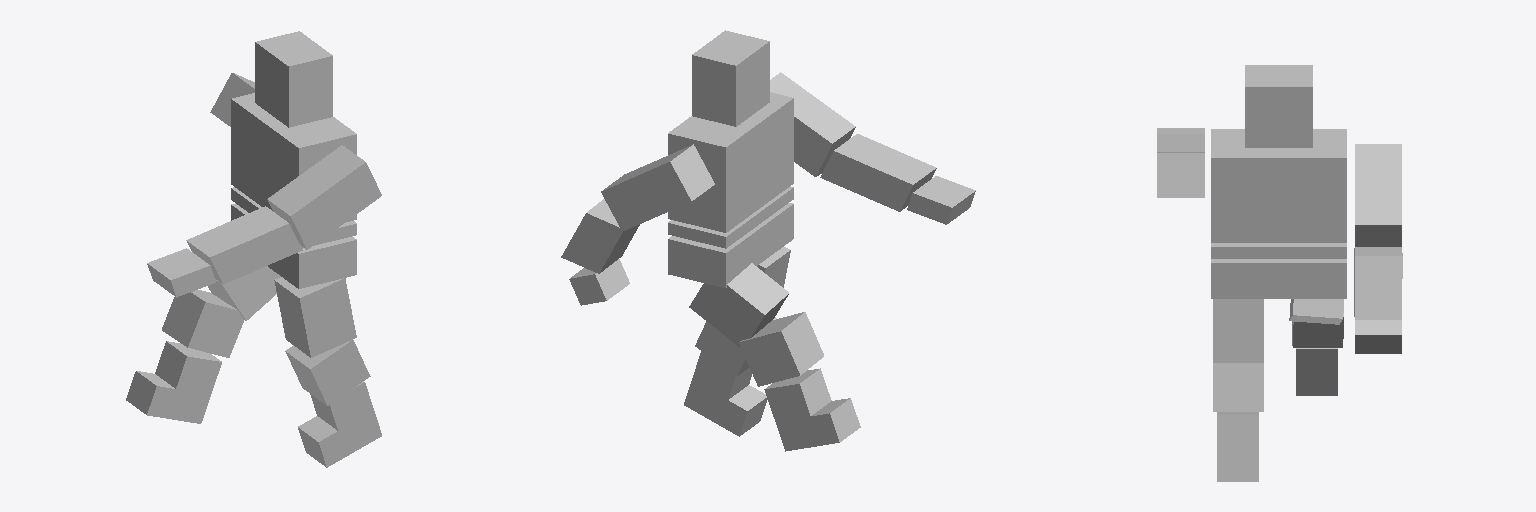
File: POne5.obj
3 views of the same model, side by side, from view 1: azimuth 30°, elevation 25°; view 2: azimuth 150°, elevation 25°; view 3: azimuth 270°, elevation 25° (orthographic).
Visible parts, largest first — view 1: group4 pasted__group3 pasted__pasted__pCube3 polySurface1, group7 pasted__pCube4 polySurface1, pCube4 polySurface1, group5 pasted__pCube1 polySurface1, group8 pasted__pCube4 polySurface1, group2 pasted__pCube2 polySurface1, pCube1 polySurface1, group1 pasted__pCube2 polySurface1, pCube2 polySurface1, pCube3 polySurface1, group9 pasted__group8 pasted__pasted__pCube4 polySurface1, group2 pasted__group1 pasted__pasted__pCube2 polySurface1 (+2 smaller); view 2: group4 pasted__group3 pasted__pasted__pCube3 polySurface1, pCube4 polySurface1, group6 pasted__pCube4 polySurface1, group5 pasted__pCube1 polySurface1, group8 pasted__pCube4 polySurface1, pCube3 polySurface1, group2 pasted__group1 pasted__pasted__pCube2 polySurface1, pCube1 polySurface1, group1 pasted__pCube2 polySurface1, group7 pasted__pCube4 polySurface1, group8 pasted__group6 pasted__pasted__pCube4 polySurface1, group9 pasted__group8 pasted__pasted__pCube4 polySurface1 (+4 smaller); view 3: group4 pasted__group3 pasted__pasted__pCube3 polySurface1, pCube4 polySurface1, pCube3 polySurface1, group6 pasted__pCube4 polySurface1, group8 pasted__group6 pasted__pasted__pCube4 polySurface1, group2 pasted__pCube2 polySurface1, pCube1 polySurface1, pCube2 polySurface1, group7 pasted__pCube4 polySurface1, group3 pasted__pCube3 polySurface1, group5 pasted__pCube1 polySurface1, group9 pasted__group8 pasted__pasted__group6 pasted__pasted__pas (+3 smaller).
Part boxes in pixels (left/top/right/bottom): group4 pasted__group3 pasted__pasted__pCube3 polySurface1: left=231, top=93, right=356, bottom=221; group7 pasted__pCube4 polySurface1: left=267, top=145, right=381, bottom=249; pCube4 polySurface1: left=255, top=31, right=332, bottom=127; group5 pasted__pCube1 polySurface1: left=126, top=341, right=221, bottom=423; group8 pasted__pCube4 polySurface1: left=186, top=206, right=302, bottom=284; group2 pasted__pCube2 polySurface1: left=274, top=277, right=356, bottom=357; pCube1 polySurface1: left=298, top=381, right=381, bottom=467; group1 pasted__pCube2 polySurface1: left=162, top=290, right=243, bottom=357; pCube2 polySurface1: left=285, top=340, right=370, bottom=405; pCube3 polySurface1: left=231, top=203, right=356, bottom=288; group9 pasted__group8 pasted__pasted__pCube4 polySurface1: left=147, top=248, right=215, bottom=297; group2 pasted__group1 pasted__pasted__pCube2 polySurface1: left=208, top=266, right=280, bottom=320; group4 pasted__group3 pasted__pasted__pCube3 polySurface1: left=668, top=92, right=793, bottom=232; pCube4 polySurface1: left=692, top=30, right=769, bottom=126; group6 pasted__pCube4 polySurface1: left=601, top=144, right=714, bottom=231; group5 pasted__pCube1 polySurface1: left=764, top=368, right=860, bottom=451; group8 pasted__pCube4 polySurface1: left=820, top=134, right=936, bottom=211; pCube3 polySurface1: left=668, top=203, right=793, bottom=287; group2 pasted__group1 pasted__pasted__pCube2 polySurface1: left=689, top=263, right=788, bottom=347; pCube1 polySurface1: left=684, top=351, right=767, bottom=436; group1 pasted__pCube2 polySurface1: left=739, top=312, right=823, bottom=386; group7 pasted__pCube4 polySurface1: left=770, top=72, right=855, bottom=176; group8 pasted__group6 pasted__pasted__pCube4 polySurface1: left=561, top=199, right=639, bottom=273; group9 pasted__group8 pasted__pasted__pCube4 polySurface1: left=907, top=176, right=975, bottom=224; group4 pasted__group3 pasted__pasted__pCube3 polySurface1: left=1211, top=129, right=1346, bottom=242; pCube4 polySurface1: left=1245, top=65, right=1312, bottom=147; pCube3 polySurface1: left=1211, top=259, right=1346, bottom=298; group6 pasted__pCube4 polySurface1: left=1355, top=144, right=1401, bottom=246; group8 pasted__group6 pasted__pasted__pCube4 polySurface1: left=1354, top=247, right=1402, bottom=319; group2 pasted__pCube2 polySurface1: left=1213, top=299, right=1263, bottom=362; pCube1 polySurface1: left=1217, top=412, right=1258, bottom=481; pCube2 polySurface1: left=1213, top=363, right=1263, bottom=411; group7 pasted__pCube4 polySurface1: left=1157, top=152, right=1204, bottom=197; group3 pasted__pCube3 polySurface1: left=1211, top=243, right=1346, bottom=258; group5 pasted__pCube1 polySurface1: left=1296, top=348, right=1337, bottom=395; group9 pasted__group8 pasted__pasted__group6 pasted__pasted__pas: left=1355, top=320, right=1401, bottom=353.
Bounding box in the file's own units: 5.02 × 6.49 × 3.64.